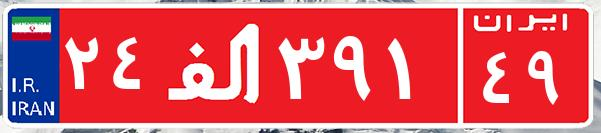1: (385, 28, 445, 110)
2: (57, 26, 110, 107)
3: (273, 28, 330, 110)
4: (475, 38, 525, 113), (110, 28, 158, 105)
9: (330, 28, 385, 110), (525, 38, 570, 115)
الف: (158, 15, 273, 115)
